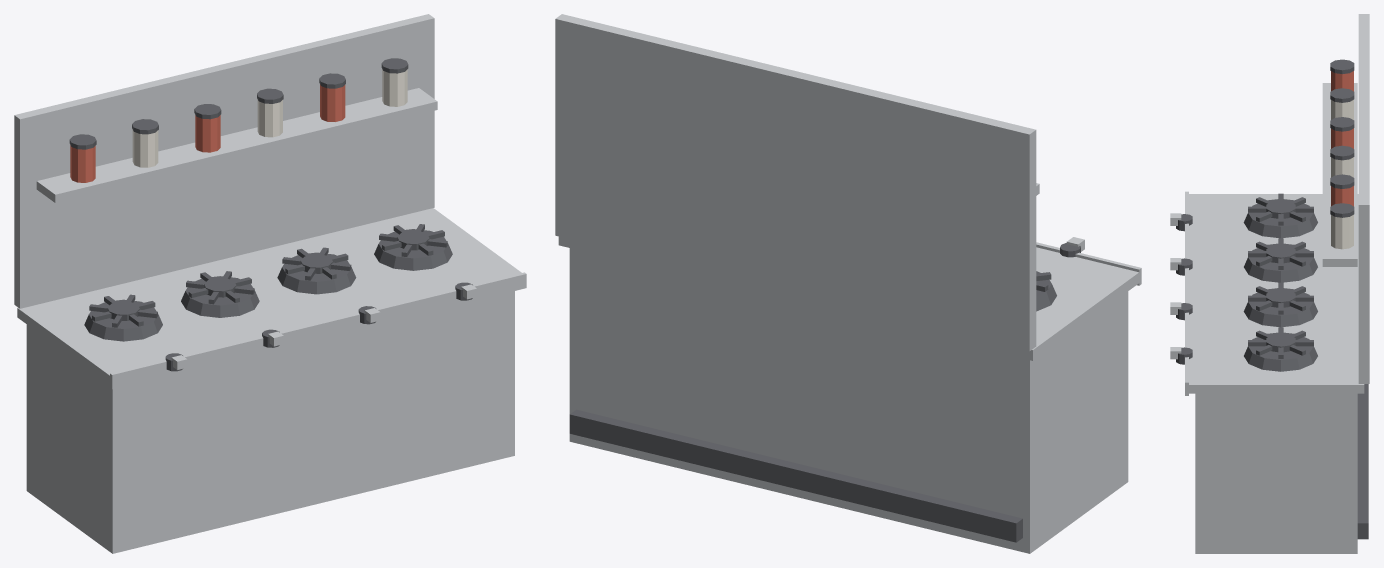
The model's file is broth_range_hot_line.glb.
3 views of the same model, side by side, from view 1: azimuth 30°, elevation 25°; view 2: azimuth 150°, elevation 25°; view 3: azimuth 270°, elevation 25° (orthographic). The views are drawn at different scales.
Parts seen in each view (by area): view 1: broth-range-hot-line-steel, broth-range-hot-line-charcoal, broth-range-hot-line-cream, broth-range-hot-line-vermilion; view 2: broth-range-hot-line-steel, broth-range-hot-line-charcoal; view 3: broth-range-hot-line-steel, broth-range-hot-line-charcoal, broth-range-hot-line-cream, broth-range-hot-line-vermilion.
Boxes of the visible parts, x1=… form: broth-range-hot-line-steel: x1=14, y1=14, x2=526, y2=553; broth-range-hot-line-charcoal: x1=69, y1=58, x2=472, y2=371; broth-range-hot-line-cream: x1=132, y1=69, x2=407, y2=167; broth-range-hot-line-vermilion: x1=70, y1=84, x2=345, y2=182; broth-range-hot-line-steel: x1=555, y1=14, x2=1141, y2=553; broth-range-hot-line-charcoal: x1=569, y1=243, x2=1080, y2=542; broth-range-hot-line-steel: x1=1170, y1=14, x2=1369, y2=553; broth-range-hot-line-charcoal: x1=1176, y1=59, x2=1368, y2=539; broth-range-hot-line-cream: x1=1331, y1=99, x2=1353, y2=249; broth-range-hot-line-vermilion: x1=1331, y1=71, x2=1353, y2=206.
Bounding box in the file's own units: 2.06 × 1.77 × 0.9099.
